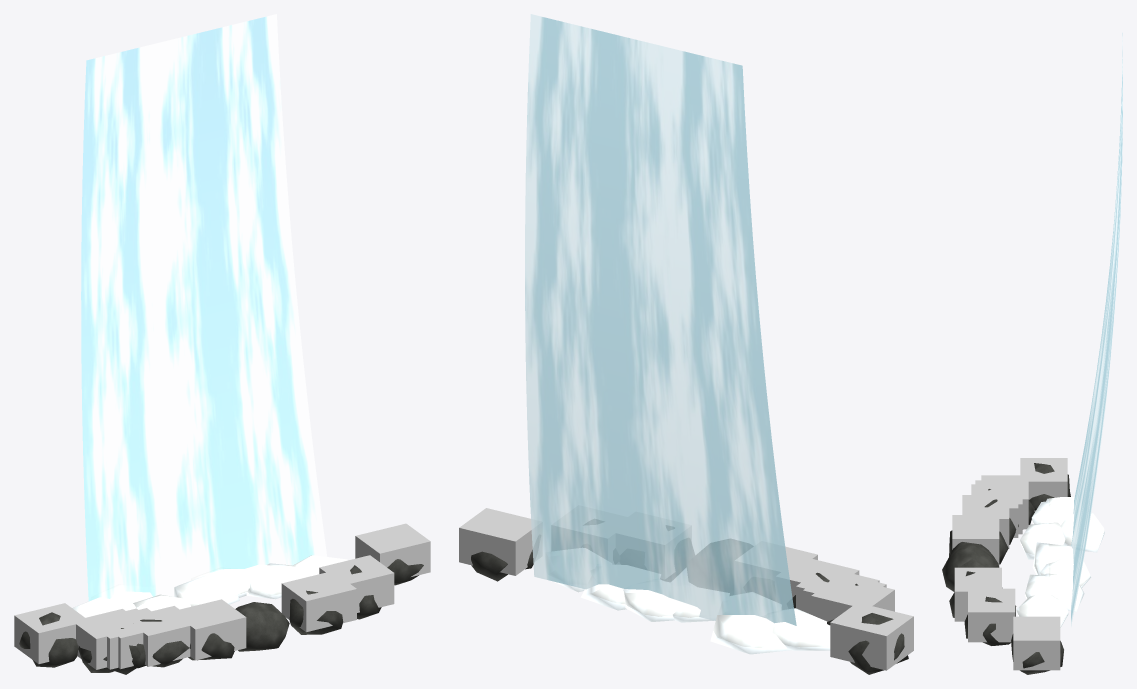
The model's file is waterfall.glb.
The picture shows the model from 3 angles, left to right: view 1: azimuth 30°, elevation 25°; view 2: azimuth 150°, elevation 25°; view 3: azimuth 270°, elevation 25°; orthographic projection. The views are drawn at different scales.
Visible parts, largest first — view 1: FallSheet, Rocks, Foam, Rock-convcolonly.004, Rock-convcolonly.002, Rock-convcolonly.006, Rock-convcolonly.001, Rock-convcolonly.007, Rock-convcolonly.009, Rock-convcolonly.008, Rock-convcolonly.003; view 2: FallSheet, Foam, Rocks, Rock-convcolonly.006, Rock-convcolonly.001, Rock-convcolonly.004, Rock-convcolonly.007, Rock-convcolonly.002, Rock-convcolonly.008, Rock-convcolonly.003, Rock-convcolonly.009; view 3: Foam, FallSheet, Rocks, Rock-convcolonly.006, Rock-convcolonly.007, Rock-convcolonly.002, Rock-convcolonly.001, Rock-convcolonly.004, Rock-convcolonly.003, Rock-convcolonly.005, Rock-convcolonly.009, Rock-convcolonly.008.
Part boxes in pixels (x1,y1,x2,y2): FallSheet: (81, 14, 327, 601); Rocks: (19, 559, 423, 674); Foam: (72, 555, 347, 617); Rock-convcolonly.004: (281, 572, 356, 632); Rock-convcolonly.002: (171, 599, 246, 660); Rock-convcolonly.006: (355, 523, 430, 576); Rock-convcolonly.001: (14, 603, 88, 663); Rock-convcolonly.007: (319, 555, 394, 612); Rock-convcolonly.009: (96, 608, 170, 669); Rock-convcolonly.008: (143, 606, 198, 666); Rock-convcolonly.003: (76, 609, 127, 669); FallSheet: (525, 14, 796, 625); Foam: (544, 548, 830, 654); Rocks: (471, 519, 908, 674); Rock-convcolonly.006: (459, 508, 541, 575); Rock-convcolonly.001: (830, 606, 913, 670); Rock-convcolonly.004: (614, 512, 691, 578); Rock-convcolonly.007: (552, 505, 626, 563); Rock-convcolonly.002: (735, 541, 817, 594); Rock-convcolonly.008: (776, 559, 859, 609); Rock-convcolonly.003: (811, 584, 894, 621); Rock-convcolonly.009: (796, 572, 879, 610); Foam: (1016, 497, 1104, 627); FallSheet: (1071, 33, 1122, 626); Rocks: (942, 463, 1070, 674); Rock-convcolonly.006: (1013, 616, 1060, 670); Rock-convcolonly.007: (968, 588, 1015, 642); Rock-convcolonly.002: (952, 515, 999, 566); Rock-convcolonly.001: (1020, 458, 1067, 511); Rock-convcolonly.004: (954, 567, 1001, 621); Rock-convcolonly.003: (981, 475, 1028, 529); Rock-convcolonly.005: (975, 480, 1022, 534); Rock-convcolonly.009: (971, 484, 1018, 537); Rock-convcolonly.008: (962, 495, 1009, 548).
Size of what is drawn, in the model's own units: 18.66 by 25.21 by 7.68.
Materials: 3 (3 with a texture image).
